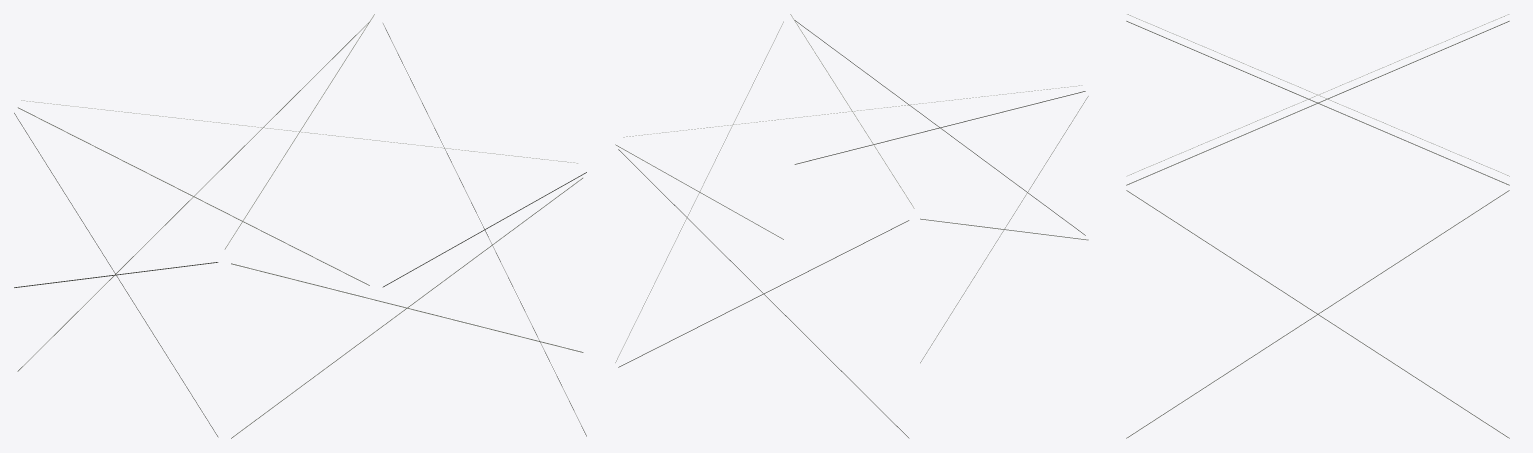
The model's file is cyberzoo_wires.dae.
The picture shows the model from 3 angles, left to right: view 1: azimuth 30°, elevation 25°; view 2: azimuth 150°, elevation 25°; view 3: azimuth 270°, elevation 25°; orthographic projection. The views are drawn at different scales.
Visible parts, largest first — view 1: instance_0 (×5); view 2: instance_0 (×5); view 3: instance_0 (×3).
Boxes of the visible parts, x1,y1,x2,y2 form: instance_0 (×5): (14,14,586,438); instance_0 (×5): (615,14,1088,438); instance_0 (×3): (1126,14,1509,438).
Bounding box in the file's own units: 374 × 375 × 267.
Materials: 1 (1 with a texture image).
